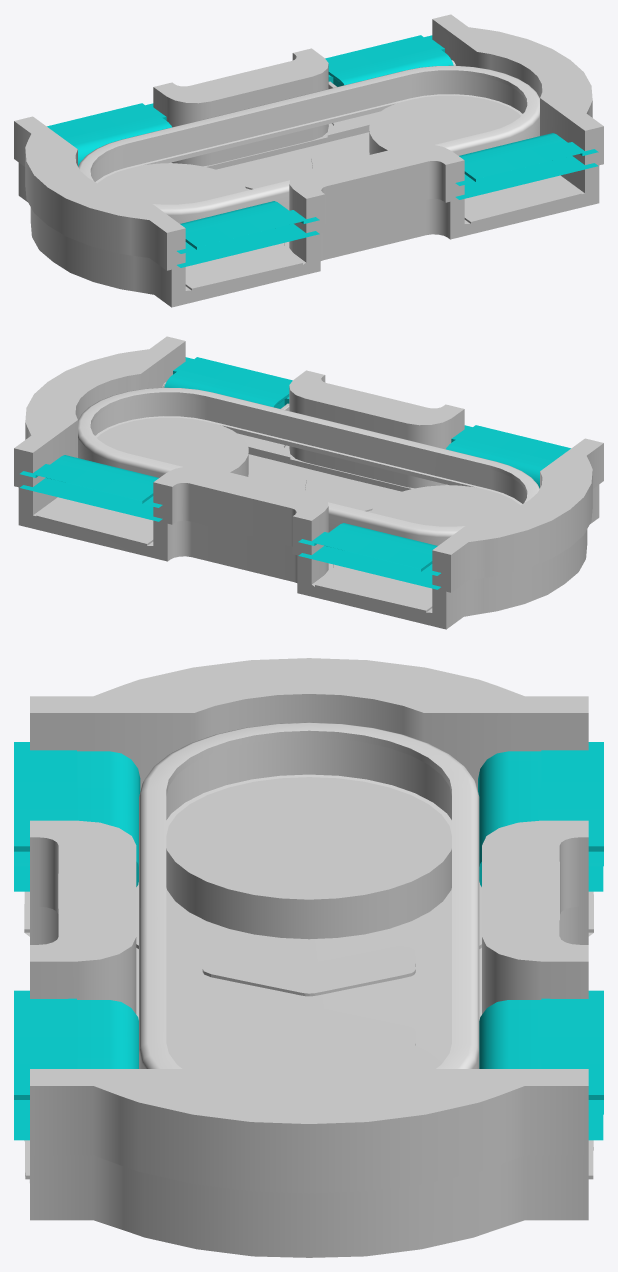
The model's file is HalvesSwapperDefaultInternalVariant.gltf.
3 renders of one model, top to bottom at view 1: azimuth 30°, elevation 25°; view 2: azimuth 150°, elevation 25°; view 3: azimuth 270°, elevation 25°, orthographic. The views are drawn at different scales.
Parts seen in each view (by area): view 1: HalvesSwapper_Default_Main_LOD0, HalvesSwapper_Default_Ribbon_LOD0; view 2: HalvesSwapper_Default_Main_LOD0, HalvesSwapper_Default_Ribbon_LOD0; view 3: HalvesSwapper_Default_Main_LOD0, HalvesSwapper_Default_Ribbon_LOD0.
Part boxes in pixels (x1,y1,x2,y2): HalvesSwapper_Default_Main_LOD0: (14, 14, 603, 307); HalvesSwapper_Default_Ribbon_LOD0: (78, 65, 539, 223); HalvesSwapper_Default_Main_LOD0: (14, 336, 603, 629); HalvesSwapper_Default_Ribbon_LOD0: (78, 387, 539, 545); HalvesSwapper_Default_Main_LOD0: (14, 658, 603, 1257); HalvesSwapper_Default_Ribbon_LOD0: (139, 722, 479, 1068).
Size of the model in its own units: 1.88 by 0.2792 by 1.
